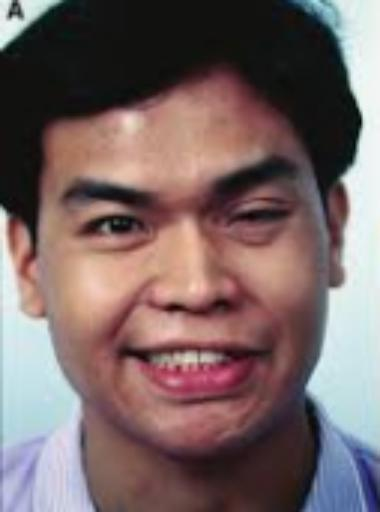left_eye: (230, 203, 295, 233)
left_lip_corner: (252, 340, 282, 369)
right_eye: (69, 214, 151, 249)
right_lip_corner: (116, 341, 146, 369)
